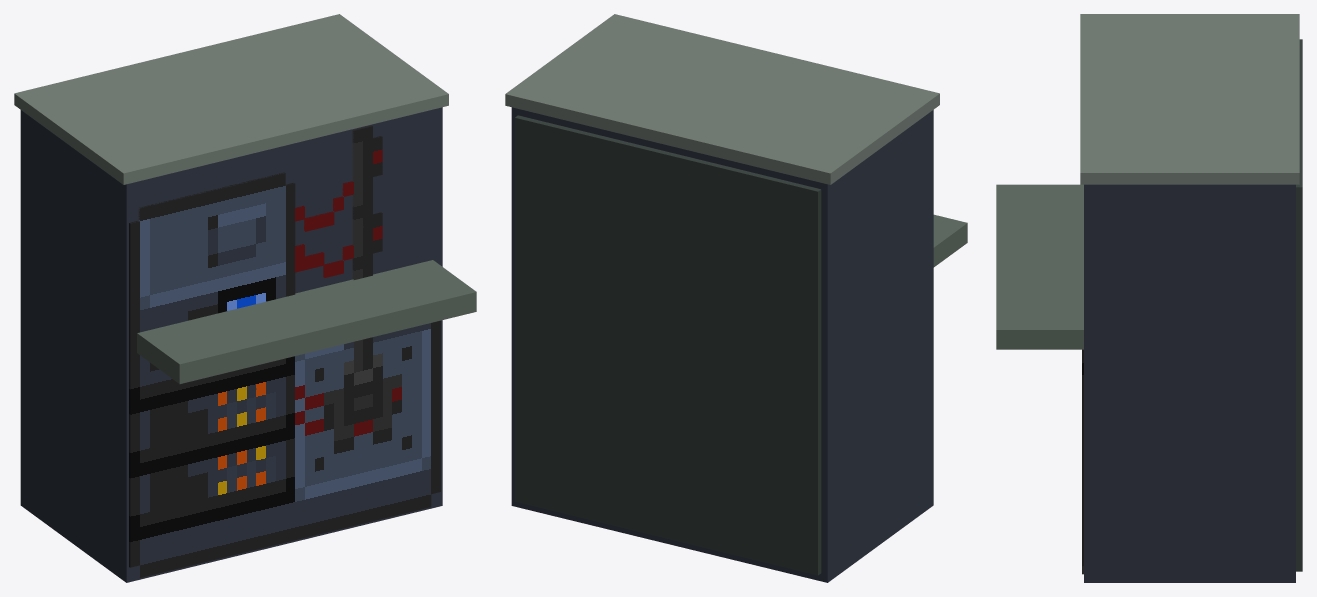
File: CMU3DInteriorVehicleAPCSensors.glb
3 renders of one model, left to right at view 1: azimuth 30°, elevation 25°; view 2: azimuth 150°, elevation 25°; view 3: azimuth 270°, elevation 25°, orthographic.
Visible parts, largest first — view 1: source equipment controls, closed equipment casing, reinforced top, operator keyboard tray; view 2: rear service plate, closed equipment casing, reinforced top, operator keyboard tray; view 3: closed equipment casing, reinforced top, operator keyboard tray, rear service plate, source equipment controls.
Part boxes in pixels (<box>): source equipment controls: <box>129,125,440,577</box>; closed equipment casing: <box>20,107,442,582</box>; reinforced top: <box>14,14,448,184</box>; operator keyboard tray: <box>137,260,476,383</box>; rear service plate: <box>514,115,821,575</box>; closed equipment casing: <box>511,107,933,582</box>; reinforced top: <box>505,14,939,184</box>; operator keyboard tray: <box>933,214,967,267</box>; closed equipment casing: <box>1084,184,1295,582</box>; reinforced top: <box>1080,14,1299,184</box>; operator keyboard tray: <box>996,184,1083,349</box>; rear service plate: <box>1296,39,1302,571</box>; source equipment controls: <box>1082,349,1083,574</box>.
Bounding box in the file's own units: 1.03 × 1.25 × 0.838.
5 materials, 1 textured.
